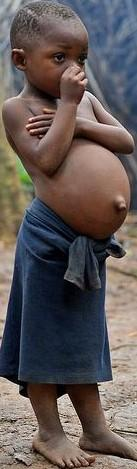Stunting: (0, 0, 110, 118)
